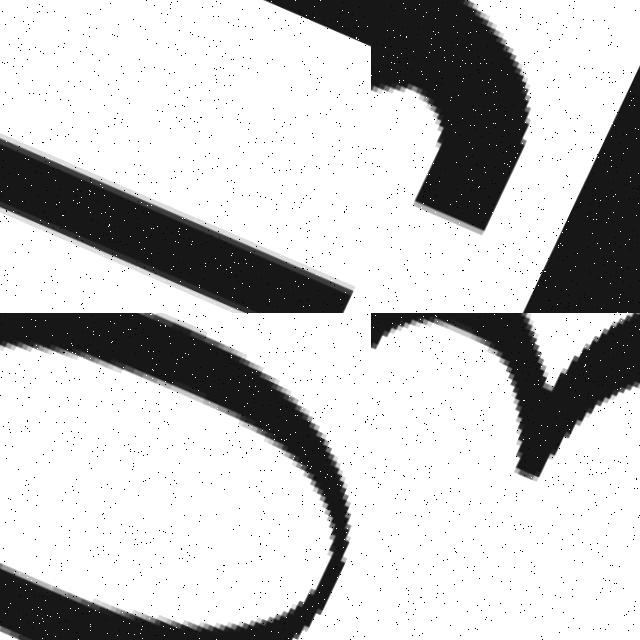0: (0, 313, 371, 640)
1: (0, 67, 360, 313)
3: (371, 313, 640, 640)
Y: (371, 0, 639, 309)
